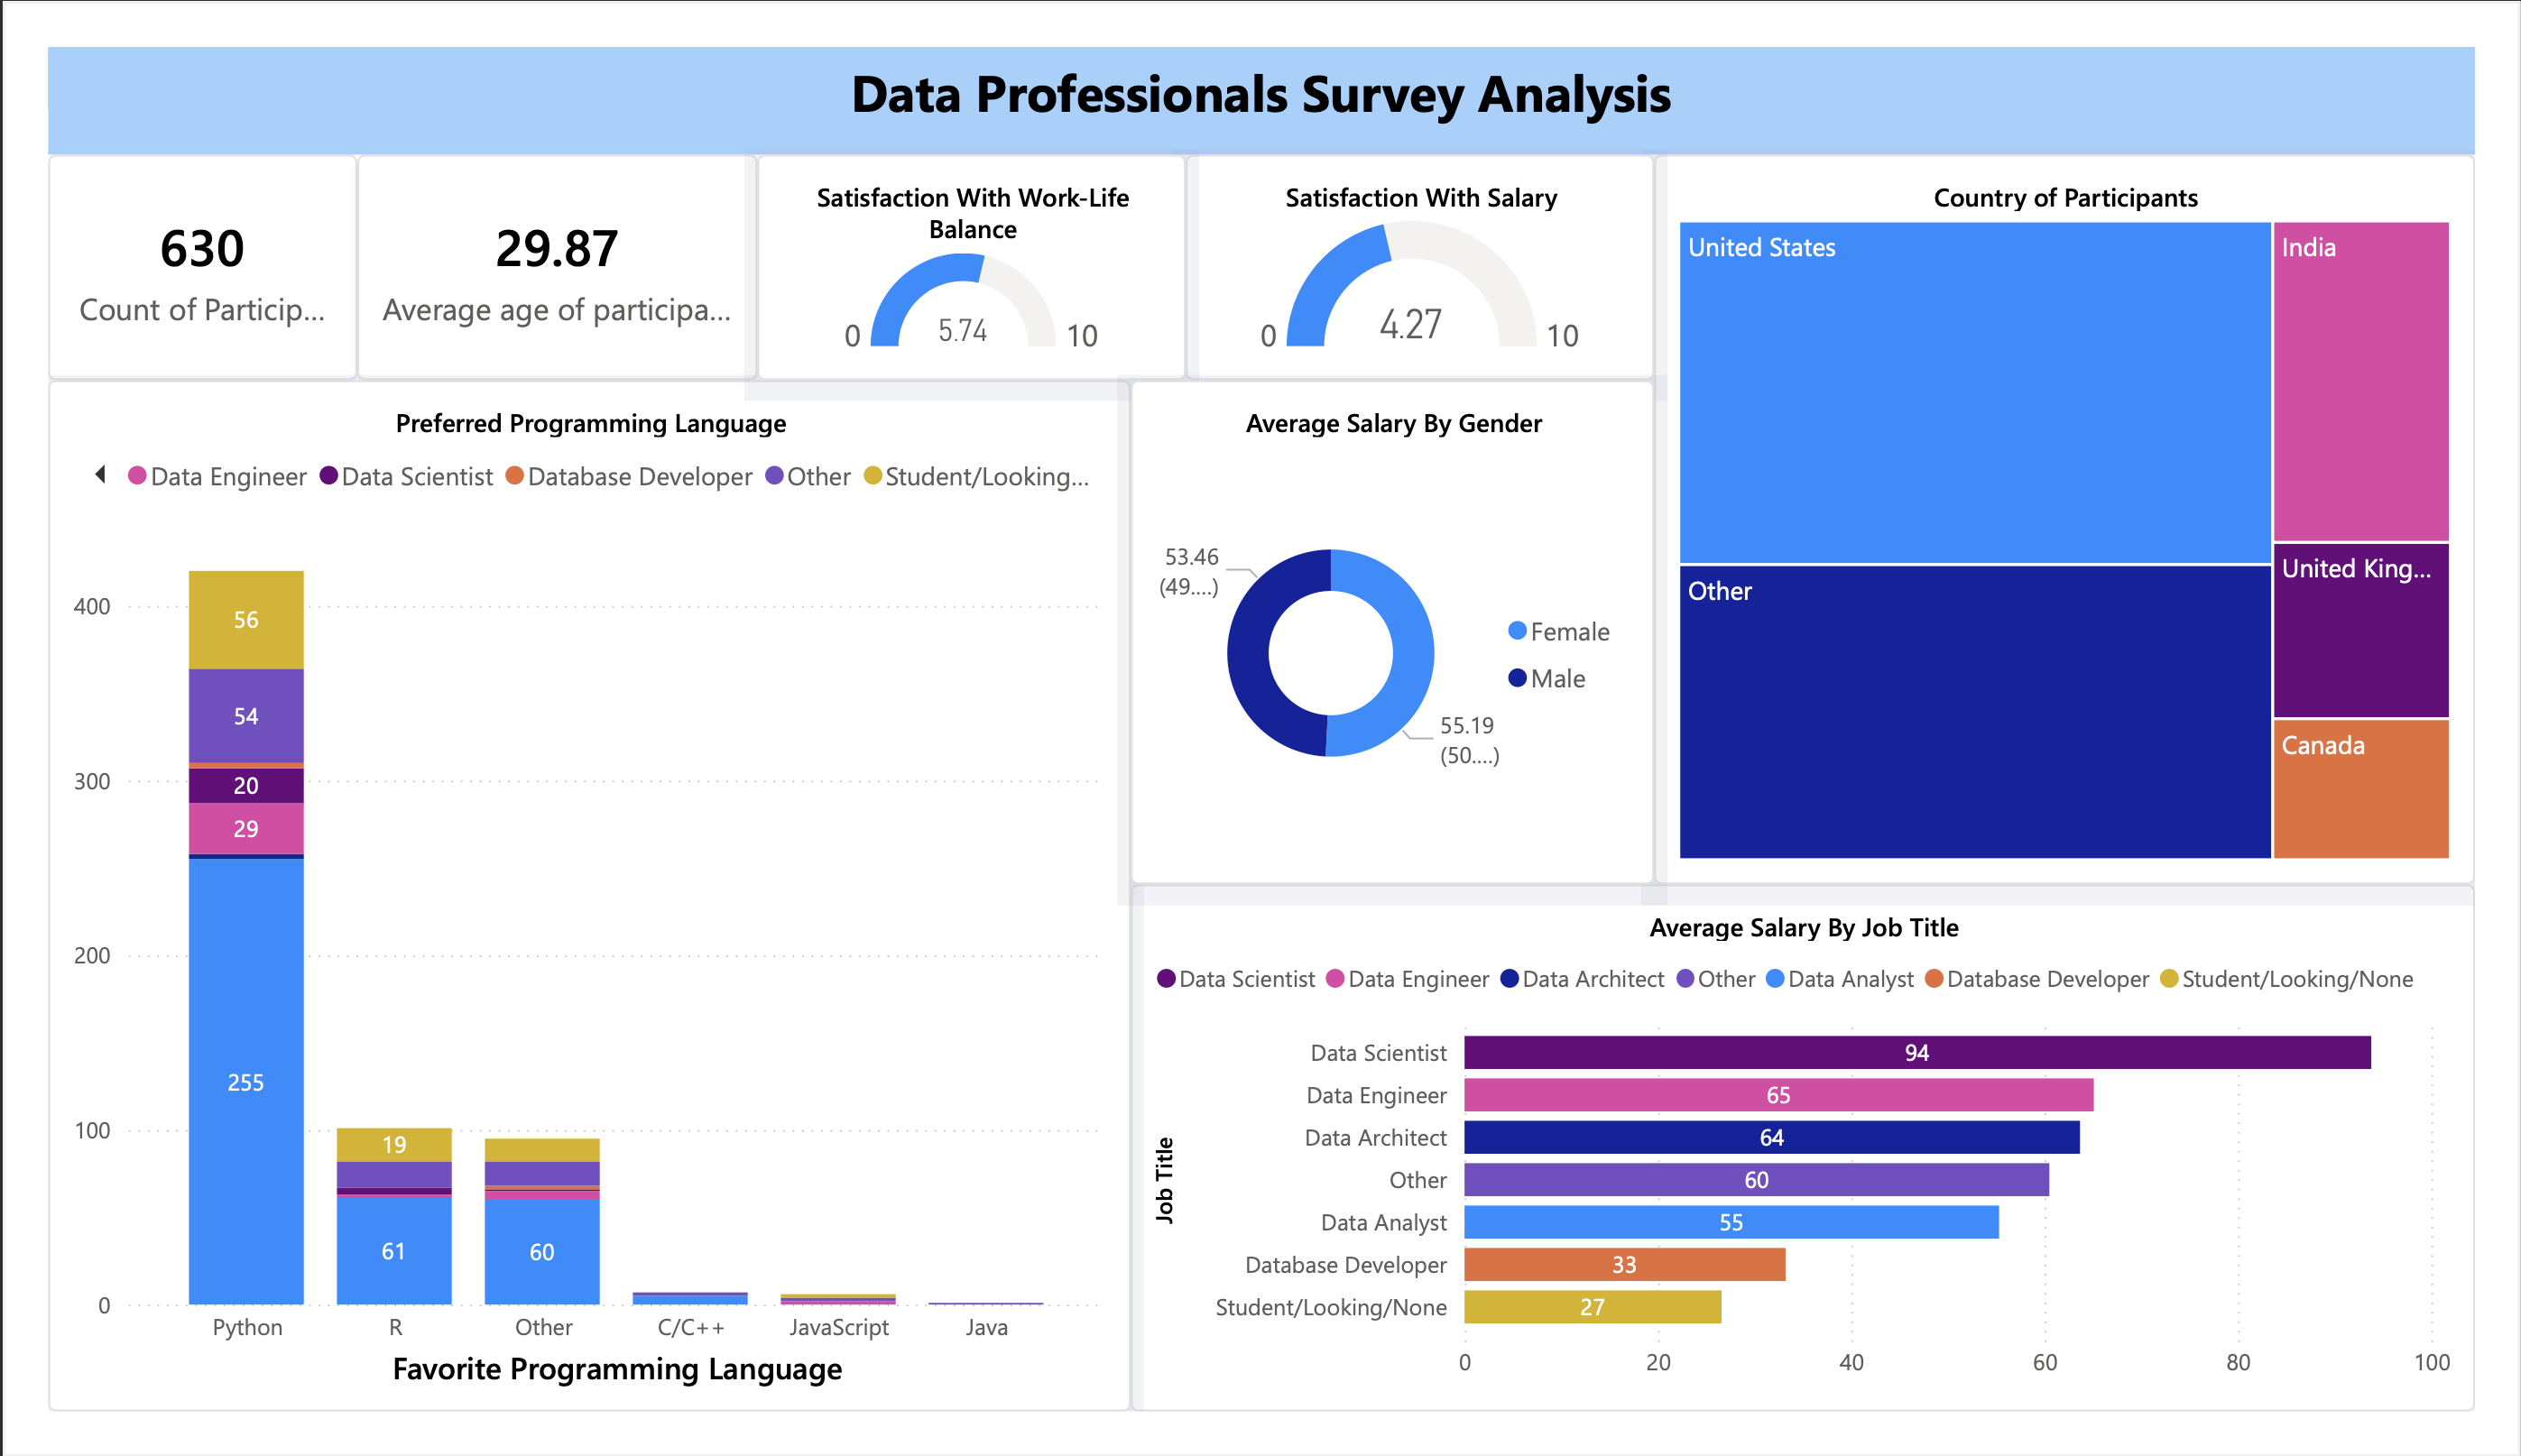

Layout of this report page (visuals, bound fields, positions):
{"tool":"powerbi","page":{"name":"Page 1","canvas":[1280,720],"ordinal":0},"visuals":[{"type":"textbox","box":[0,0,1280,56.7],"z":0},{"type":"card","fields":{"Values":["CountNonNull(Data Professional Survey.Unique ID)"]},"box":[0,56.7,163.3,118.9],"z":1000},{"type":"card","fields":{"Values":["Avg(Data Professional Survey.Q10 - Current Age)"]},"box":[163.3,56.7,211.1,118.9],"z":2000},{"type":"barChart","title":"Average Salary By Job Title","fields":{"Category":["Data Professional Survey.Q1 - Which Title Best Fits your Current Role?.1"],"Y":["Avg(Data Professional Survey.Average Salary)"],"Series":["Data Professional Survey.Q1 - Which Title Best Fits your Current Role?.1"]},"box":[571.1,442.2,708.9,277.8],"z":3000},{"type":"columnChart","title":"Preferred Programming Language","fields":{"Category":["Data Professional Survey.Q5 - Favorite Programming Language.1"],"Y":["CountNonNull(Data Professional Survey.Unique ID)"],"Series":["Data Professional Survey.Q1 - Which Title Best Fits your Current Role?.1"]},"box":[0,175.6,571.1,544.4],"z":4000},{"type":"treemap","title":"Country of Participants","fields":{"Group":["Data Professional Survey.Q11 - Which Country do you live in?.1"],"Values":["CountNonNull(Data Professional Survey.Q11 - Which Country do you live in?.1)"]},"box":[846.7,56.7,433.3,385.6],"z":5000},{"type":"gauge","title":"Satisfaction With Salary","fields":{"Y":["Avg(Data Professional Survey.Q6 - How Happy are you in your Current Position with the following? (Salary))"],"MinValue":["Min(Data Professional Survey.Q6 - How Happy are you in your Current Position with the following? (Salary))"],"MaxValue":["Max(Data Professional Survey.Q6 - How Happy are you in your Current Position with the following? (Salary))"]},"box":[600,56.7,246.7,118.9],"z":6000},{"type":"gauge","title":"Satisfaction With Work-Life Balance","fields":{"Y":["Avg(Data Professional Survey.Q6 - How Happy are you in your Current Position with the following? (Work/Life Balance))"],"MinValue":["Min(Data Professional Survey.Q6 - How Happy are you in your Current Position with the following? (Work/Life Balance))"],"MaxValue":["Max(Data Professional Survey.Q6 - How Happy are you in your Current Position with the following? (Work/Life Balance))1"]},"box":[374.4,56.7,225.6,118.9],"z":7000},{"type":"donutChart","title":"Average Salary By Gender","fields":{"Category":["Data Professional Survey.Q9 - Male/Female?"],"Y":["Avg(Data Professional Survey.Average Salary)"]},"box":[571.1,175.6,275.6,266.7],"z":8000}]}

Visuals, with their boxes in screenshot pixels (x1, y1, x2, y2), scaled from the page's 1280x720 canvas onto the 2521x1456 screenshot:
textbox: <region>0, 0, 2520, 115</region>
card - CountNonNull(Data Professional Survey.Unique ID): <region>0, 115, 321, 355</region>
card - Avg(Data Professional Survey.Q10 - Current Age): <region>321, 115, 737, 355</region>
"Average Salary By Job Title" barChart: <region>1125, 894, 2520, 1455</region>
"Preferred Programming Language" columnChart: <region>0, 355, 1125, 1455</region>
"Country of Participants" treemap: <region>1667, 115, 2520, 894</region>
"Satisfaction With Salary" gauge: <region>1182, 115, 1667, 355</region>
"Satisfaction With Work-Life Balance" gauge: <region>737, 115, 1182, 355</region>
"Average Salary By Gender" donutChart: <region>1125, 355, 1667, 894</region>
